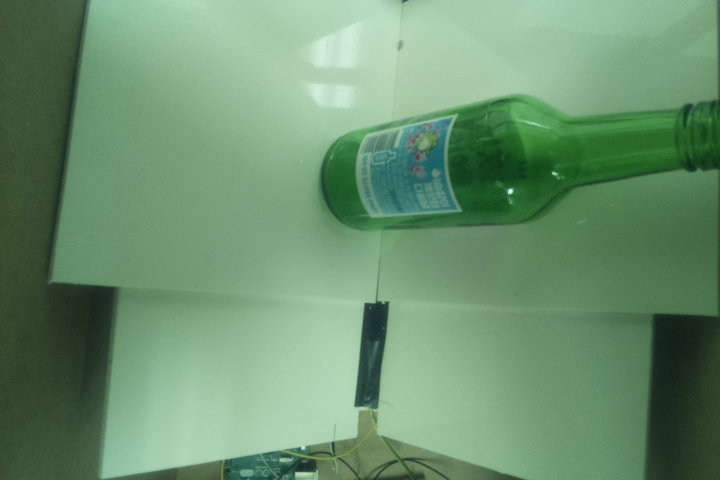soju: (318, 89, 720, 232)
